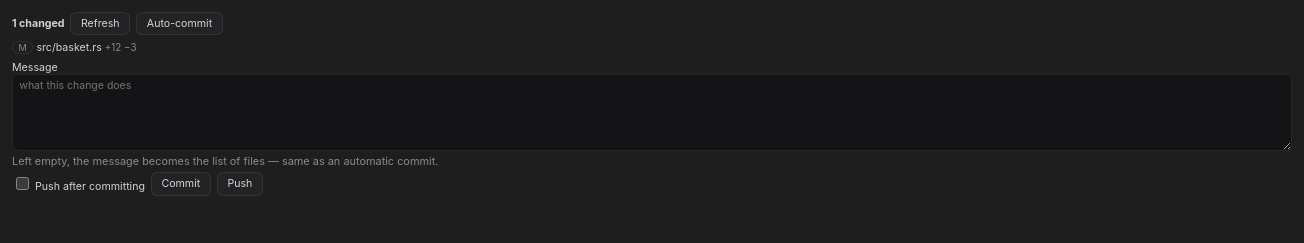
Test: GitPanel › says so when the commit landed but the push did not
Click the checkbox labelled "Push after committing" at (22, 184), box top-left (16, 177), bottom-right (29, 190)
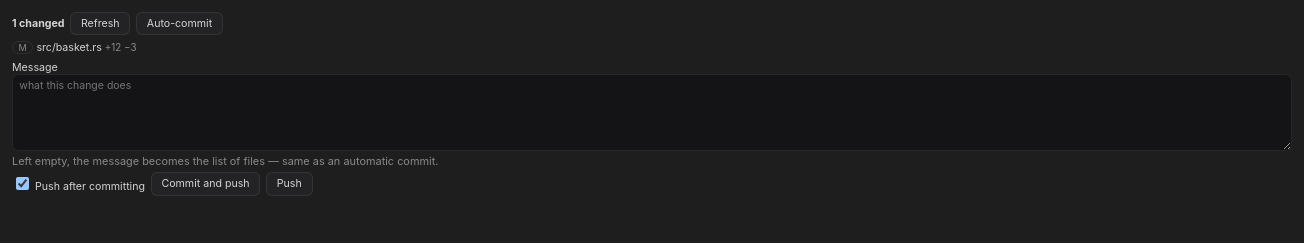
Click the button "Commit and push" at (206, 184), box top-left (151, 172), bottom-right (260, 196)
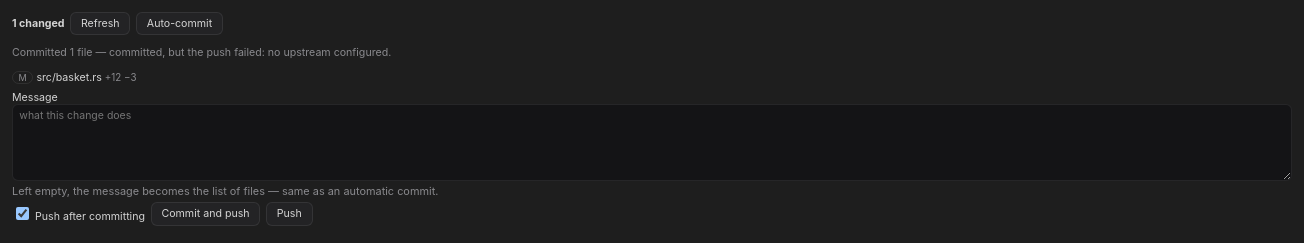
Expected: the text "Committed 1 file — committed, but the push failed: no upstream configured." is shown, top-left (12, 46), bottom-right (391, 59)
